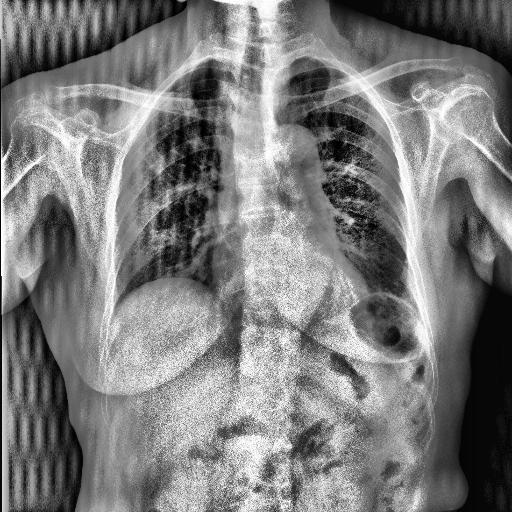0- Aortic enlargement: (206, 120, 342, 220), (274, 120, 334, 333), (230, 118, 322, 176)
7- Lung Opacity: (210, 54, 239, 156), (270, 60, 293, 112)
